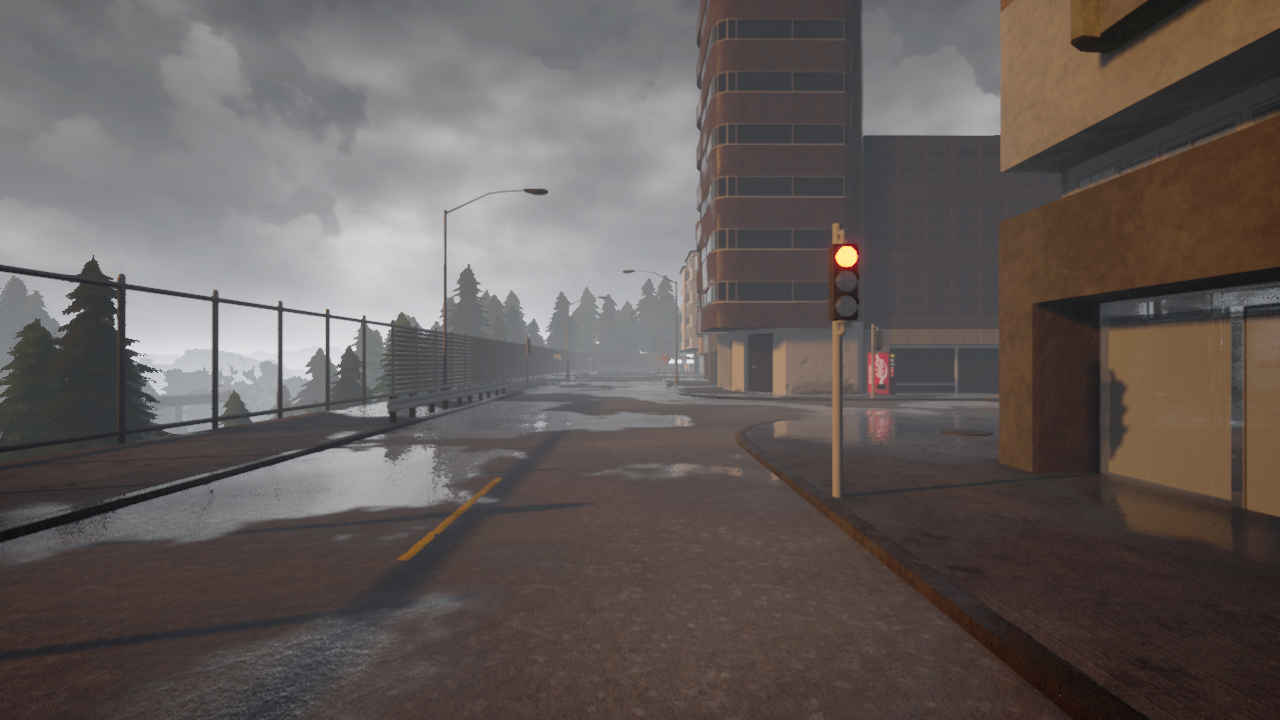red: (830, 243, 863, 321)
